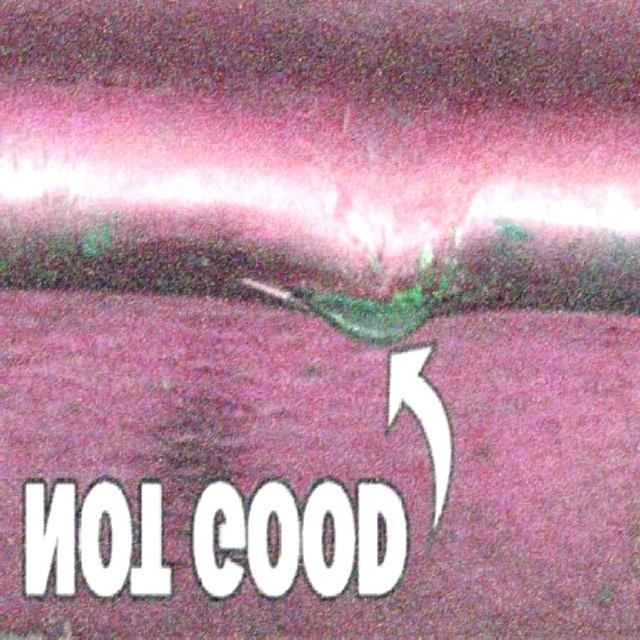Hole: (280, 265, 458, 355)
